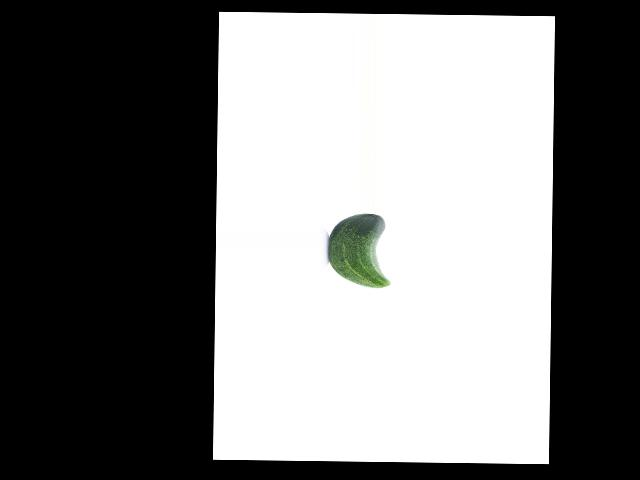cucumber: (327, 213, 390, 288)
